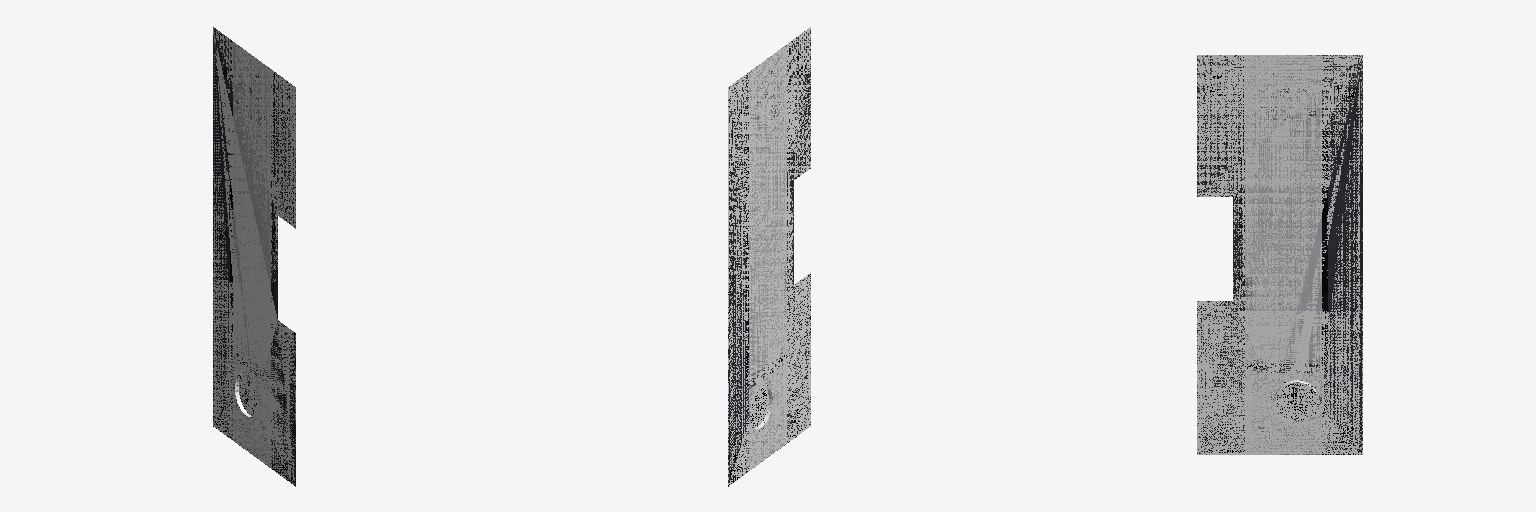
3 renders of one model, left to right at view 1: azimuth 30°, elevation 25°; view 2: azimuth 150°, elevation 25°; view 3: azimuth 270°, elevation 25°, orthographic.
Parts seen in each view (by area): view 1: 3dw.5334cfe15f80099f15ac[number redacted]aee7/Model/mesh1/mesh1-geometry/; view 2: 3dw.5334cfe15f80099f15ac[number redacted]aee7/Model/mesh1/mesh1-geometry/; view 3: 3dw.5334cfe15f80099f15ac[number redacted]aee7/Model/mesh1/mesh1-geometry/.
Boxes of the visible parts, x1,y1,x2,y2 form: 3dw.5334cfe15f80099f15ac[number redacted]aee7/Model/mesh1/mesh1-geometry/: [213, 27, 295, 486]; 3dw.5334cfe15f80099f15ac[number redacted]aee7/Model/mesh1/mesh1-geometry/: [728, 27, 810, 486]; 3dw.5334cfe15f80099f15ac[number redacted]aee7/Model/mesh1/mesh1-geometry/: [1197, 55, 1362, 454].
Bounding box in the file's own units: 0.0086 × 0.8615 × 0.3238.
2 materials, 1 textured.